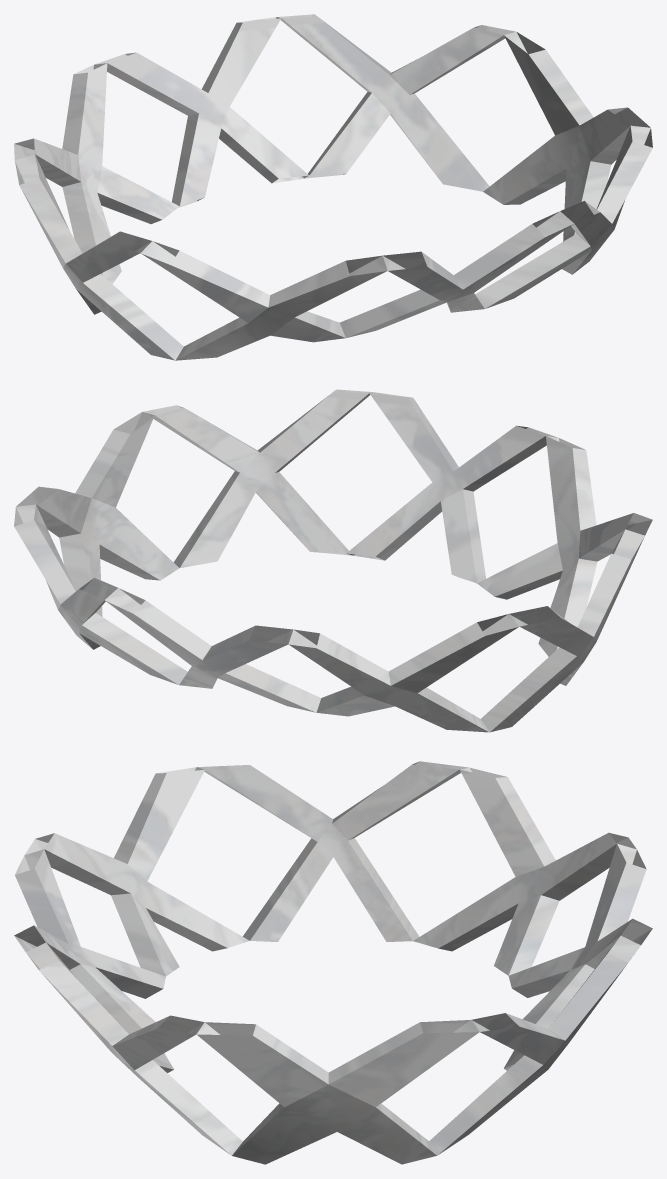
Rendered from zalesRing_lattice_cut.obj.
3 renders of one model, top to bottom at view 1: azimuth 30°, elevation 25°; view 2: azimuth 150°, elevation 25°; view 3: azimuth 270°, elevation 25°, orthographic. The views are drawn at different scales.
Parts seen in each view (by area): view 1: zalesRing_lattice:Ring zalesRing_lattice:polySurface9 zalesRing_; view 2: zalesRing_lattice:Ring zalesRing_lattice:polySurface9 zalesRing_; view 3: zalesRing_lattice:Ring zalesRing_lattice:polySurface9 zalesRing_.
Boxes of the visible parts, box(x1,y1,x2,y2) form: zalesRing_lattice:Ring zalesRing_lattice:polySurface9 zalesRing_: box(14, 14, 652, 360); zalesRing_lattice:Ring zalesRing_lattice:polySurface9 zalesRing_: box(14, 389, 652, 732); zalesRing_lattice:Ring zalesRing_lattice:polySurface9 zalesRing_: box(14, 761, 652, 1164).
Bounding box in the file's own units: 4.38 × 1.15 × 4.19.
Materials: 1 (1 with a texture image).
